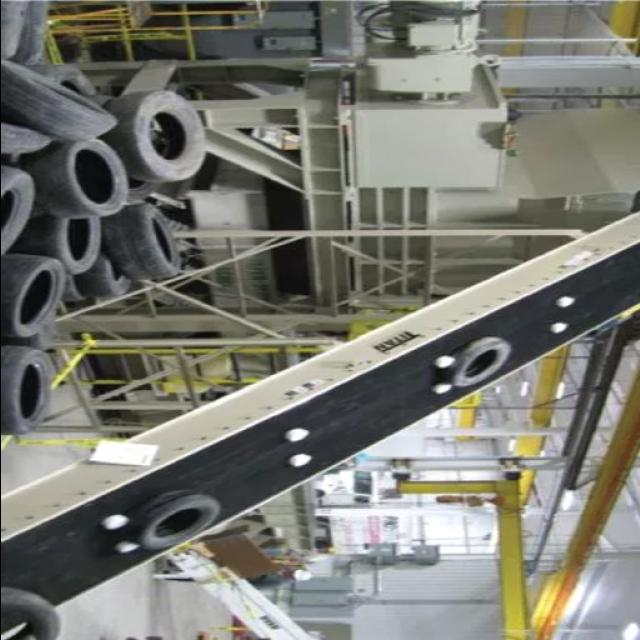conveyor: (0, 234, 640, 639)
